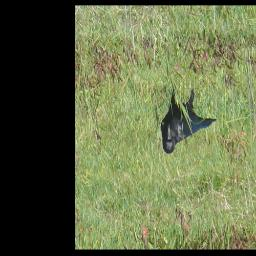Crow: (161, 84, 218, 154)
